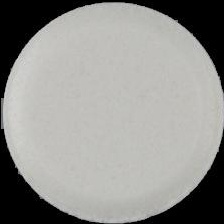0054-4297: (0, 0, 224, 224)
